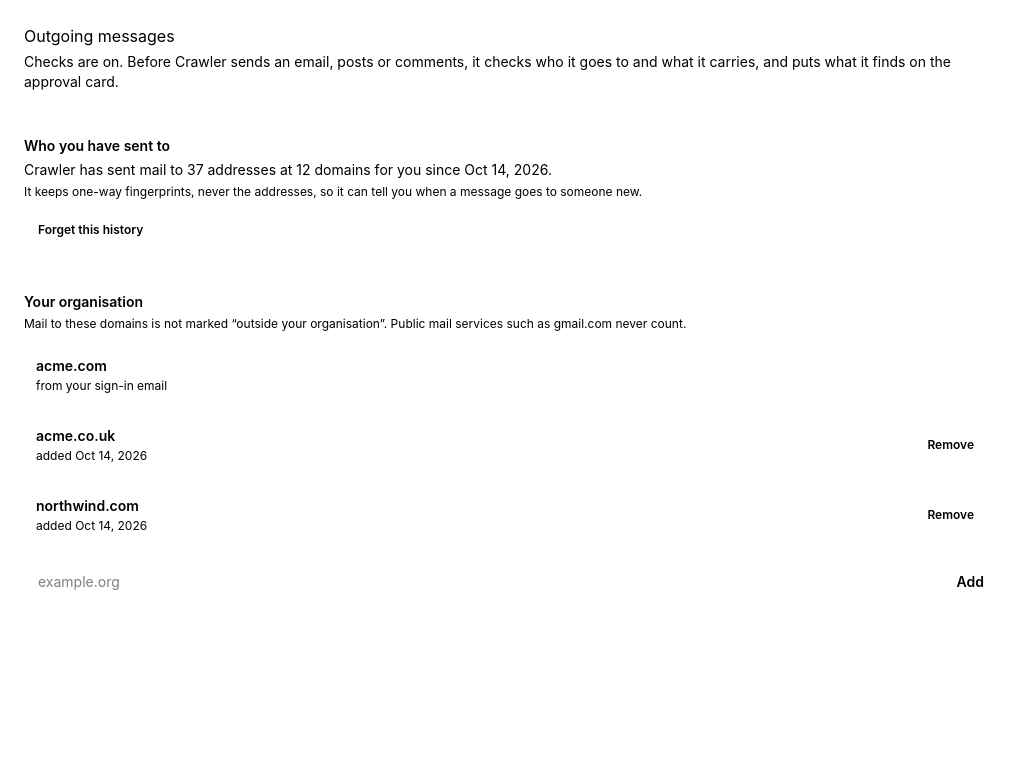
Test: OutgoingMessagesTab › remove asks first and removes only its own row
Click the button with aria-label "Remove acme.co.uk" at point(951, 445), box left=913, top=427, right=988, bottom=463
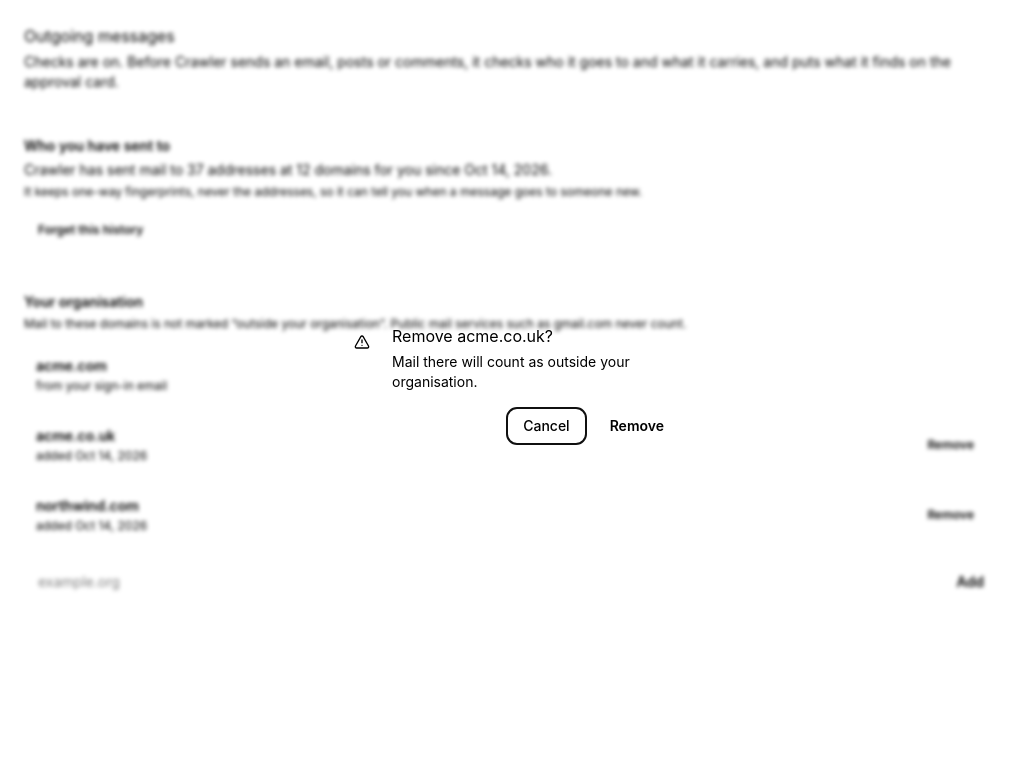
Now the dialog shows "Remove acme.co.uk?", box left=392, top=326, right=553, bottom=346
Now the dialog shows "Mail there will count as outside your organisation.", box left=392, top=353, right=630, bottom=390
Click the button "Remove" at point(637, 426), box left=594, top=408, right=680, bottom=444
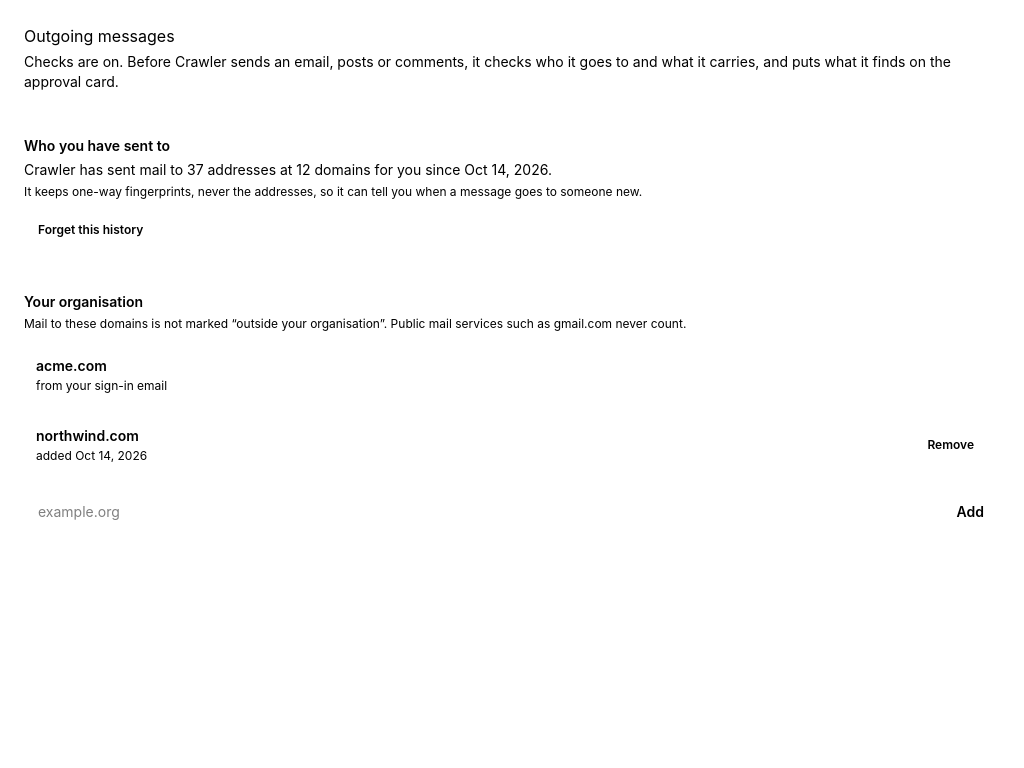
Expected: the list item "acme.com from your sign-in email" is shown, left=36, top=357, right=167, bottom=393
Now the dialog is gone
Now the text "acme.co.uk" is gone
